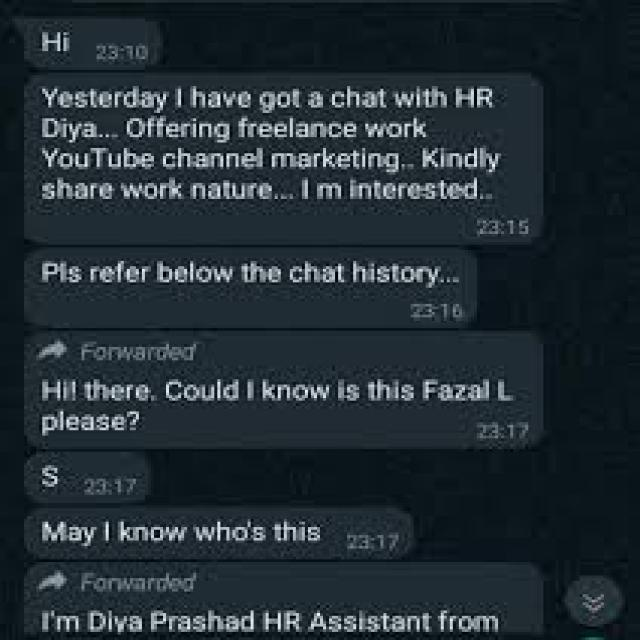text: (31, 75, 529, 214), (32, 362, 516, 439), (31, 593, 516, 640), (34, 247, 467, 294), (29, 510, 332, 568), (24, 23, 102, 64), (32, 454, 94, 495)
